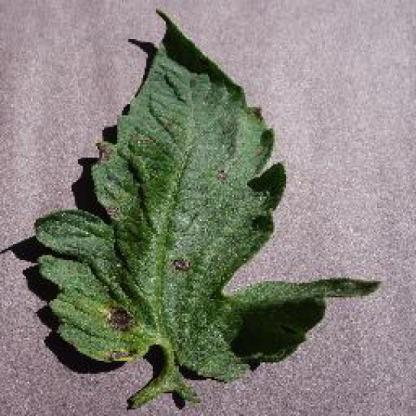Tomato_Blight: (35, 9, 380, 371)
